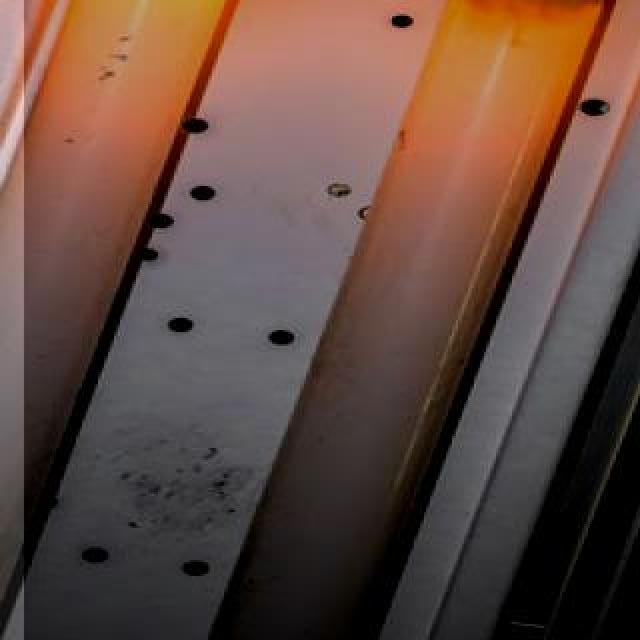fluorescent tube: (254, 0, 640, 640), (0, 0, 332, 640)
